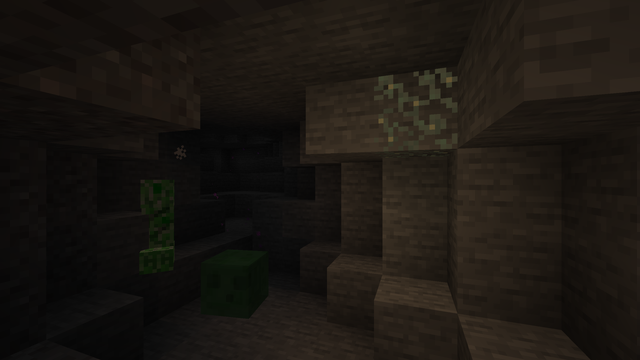creepers: (131, 175, 184, 273)
slimes: (198, 246, 270, 320)
